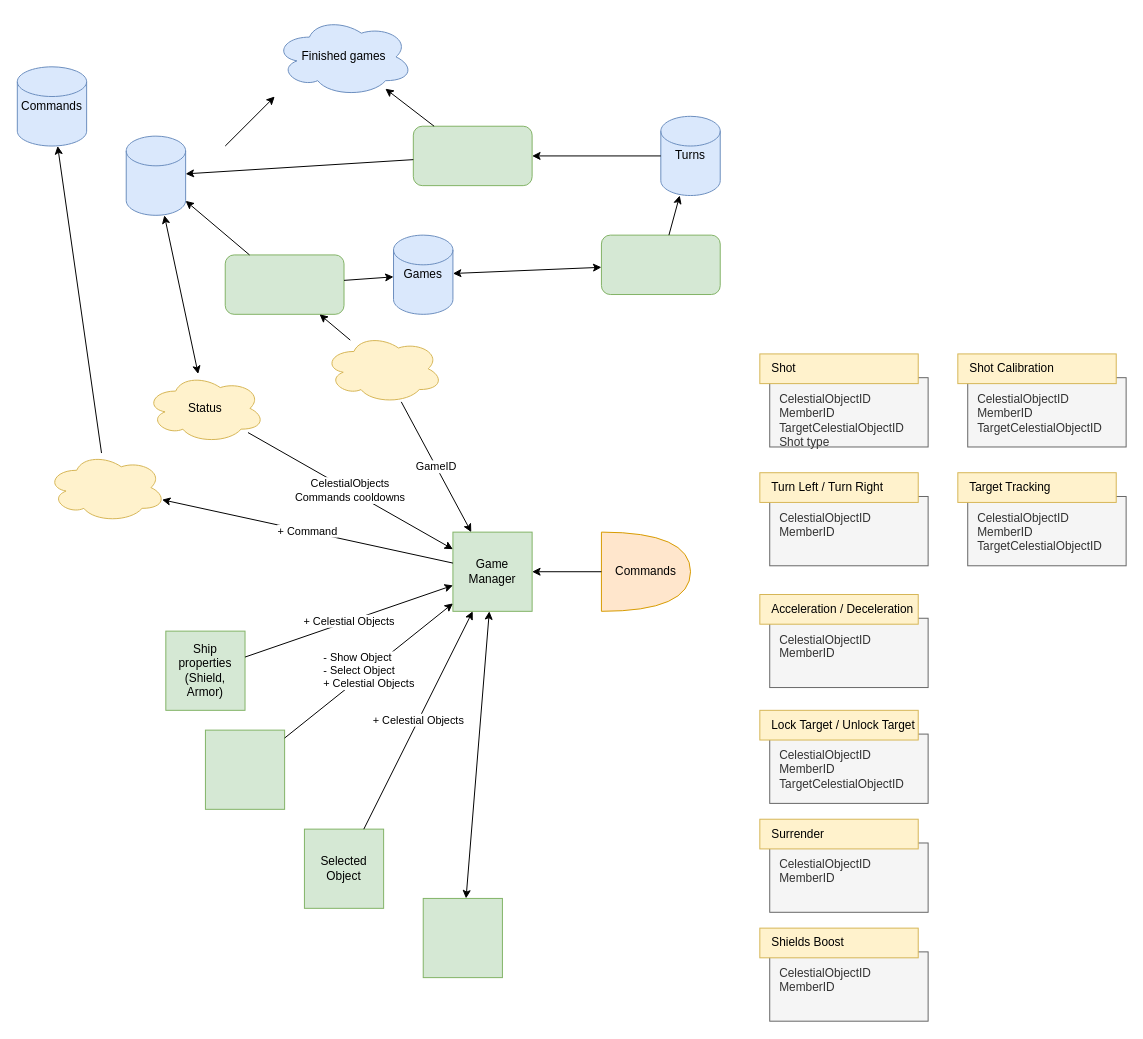
The diagram is 1143 pixels wide and 1039 high, and some of its shapes have lost their labels. The centre of each missing label's shape, as x and y in pixels:
"Generate Game" goes at (x=284, y=284).
"Get command" goes at (x=106, y=487).
"Initialization" goes at (x=383, y=368).
"Log" goes at (x=462, y=937).
"Maps" goes at (x=155, y=175).
"Space Map" goes at (x=244, y=769).
"Turn finilizer" goes at (x=660, y=264).
"Turn processor" goes at (x=472, y=155).
